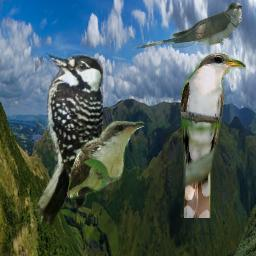Cuckoo: (179, 52, 246, 218), (66, 120, 145, 199), (133, 1, 242, 51)
Woodpecker: (35, 52, 103, 235)
